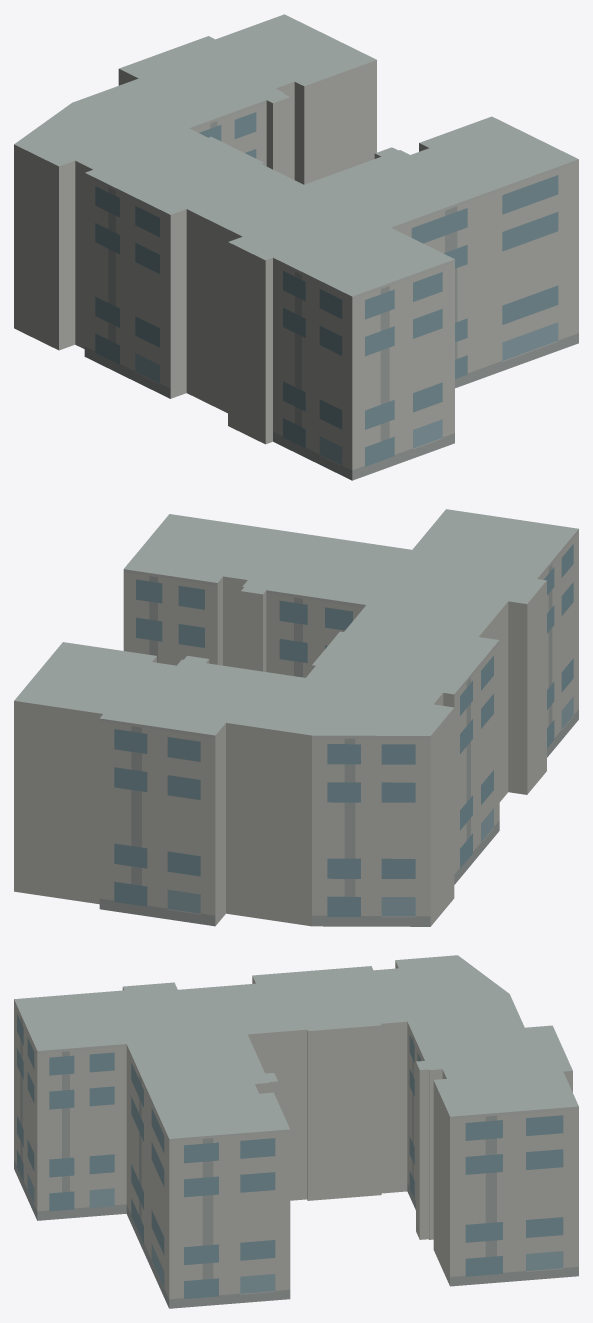
File: survey-upis-32618841.glb
3 views of the same model, one above another, from view 1: azimuth 30°, elevation 25°; view 2: azimuth 150°, elevation 25°; view 3: azimuth 270°, elevation 25° (orthographic). The views are drawn at different scales.
Parts seen in each view (by area): view 1: survey-upis-32618841.tmp; view 2: survey-upis-32618841.tmp; view 3: survey-upis-32618841.tmp.
Boxes of the visible parts, x1,y1,x2,y2 form: survey-upis-32618841.tmp: (14,14,578,480); survey-upis-32618841.tmp: (14,509,578,926); survey-upis-32618841.tmp: (14,955,578,1308).
Bounding box in the file's own units: 35.42 × 15.25 × 46.
